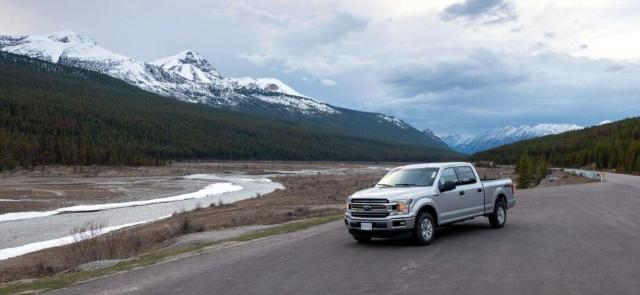pickup-truck: (334, 157, 522, 252)
